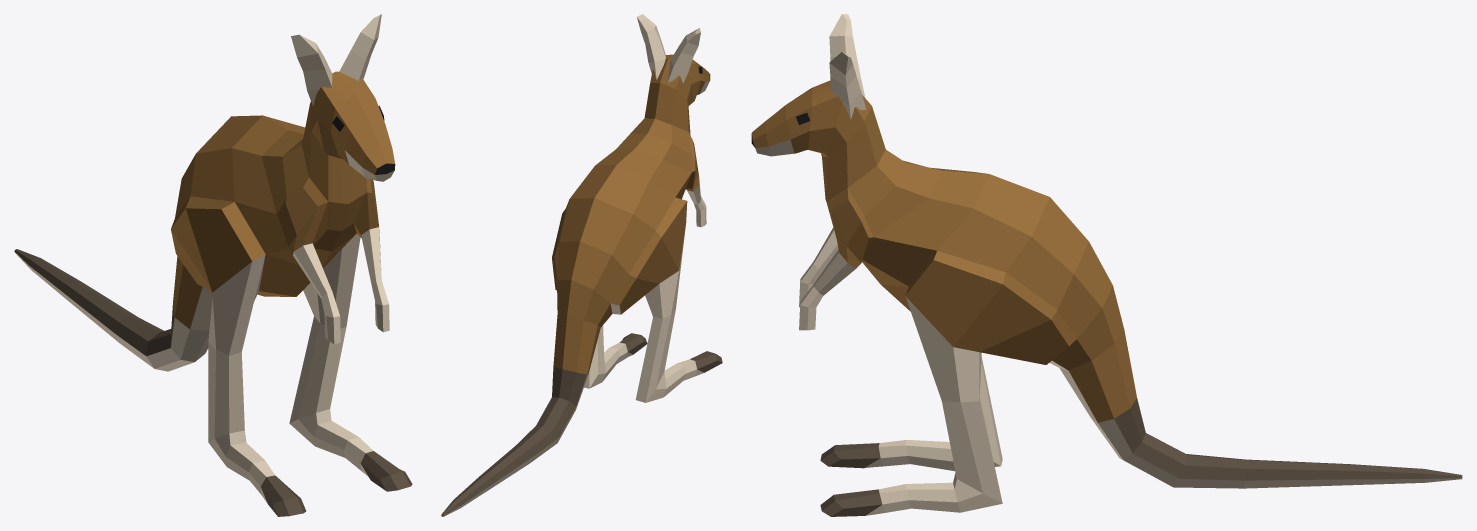
The model's file is Mesh_Kangaroo.obj.
The picture shows the model from 3 angles, left to right: view 1: azimuth 30°, elevation 25°; view 2: azimuth 150°, elevation 25°; view 3: azimuth 270°, elevation 25°; orthographic projection. The views are drawn at different scales.
Parts seen in each view (by area): view 1: Geo_Kangaroo; view 2: Geo_Kangaroo; view 3: Geo_Kangaroo.
Boxes of the visible parts, x1,y1,x2,y2 form: Geo_Kangaroo: (14, 14, 412, 516); Geo_Kangaroo: (441, 14, 722, 516); Geo_Kangaroo: (751, 14, 1462, 516).
Bounding box in the file's own units: 40.06 × 129 × 182.
1 material, 1 textured.
